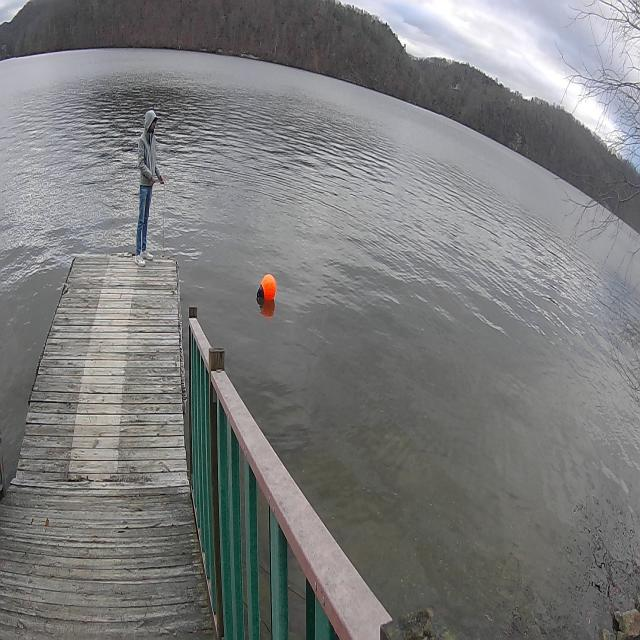Buoy: (254, 272, 278, 308)
